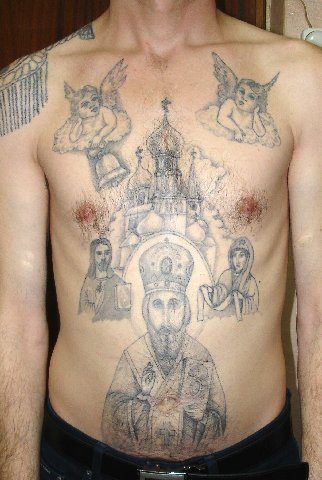tatu1_angel: (199, 47, 282, 147), (53, 63, 135, 147)
